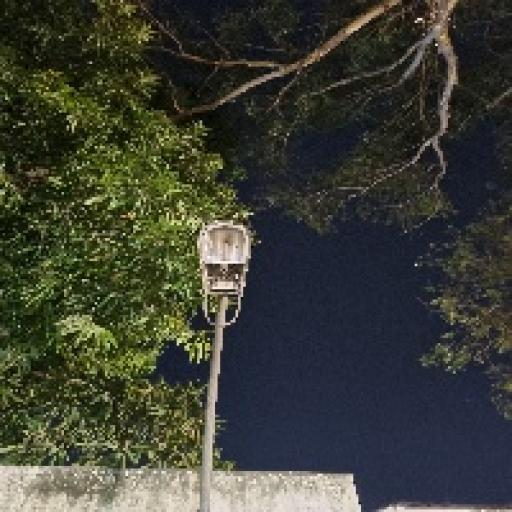Not Working: (179, 209, 266, 333)
